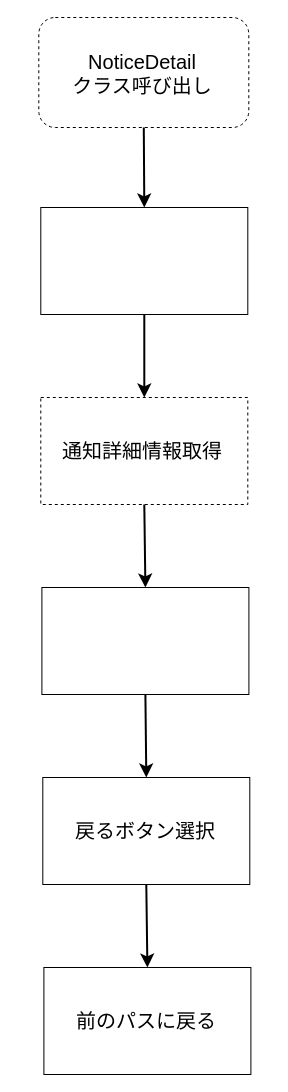
Image size: 288x1092. Some labels were removed from this diagram. The centre of each missing label's shape, as x and y in pixels:
"APIと通信" goes at [144,260].
"通知詳細画面表示" goes at [145,640].
